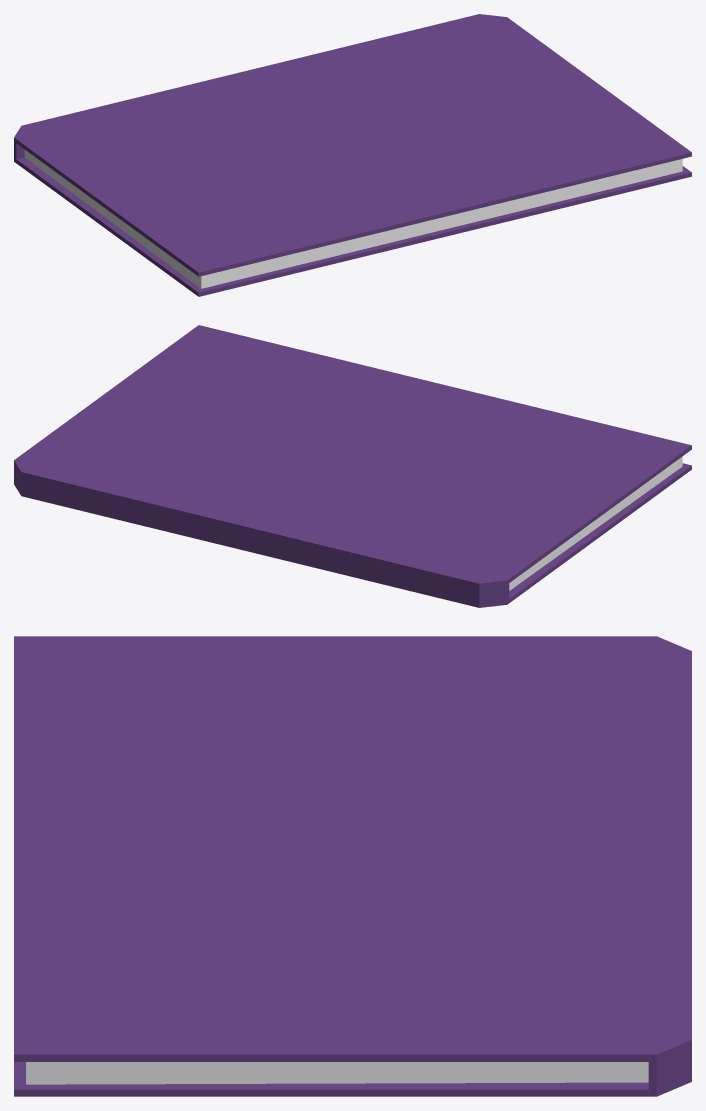
The model's file is Note Book_3.fbx.
3 views of the same model, one above another, from view 1: azimuth 30°, elevation 25°; view 2: azimuth 150°, elevation 25°; view 3: azimuth 270°, elevation 25° (orthographic). The views are drawn at different scales.
Visible parts, largest first — view 1: Note Book_3; view 2: Note Book_3; view 3: Note Book_3.
Boxes of the visible parts, left/top/right/bottom form: Note Book_3: left=14, top=14, right=691, bottom=296; Note Book_3: left=14, top=325, right=691, bottom=607; Note Book_3: left=14, top=636, right=691, bottom=1096.
Size of the model in its own units: 0.2067 by 0.0097 by 0.1415.
